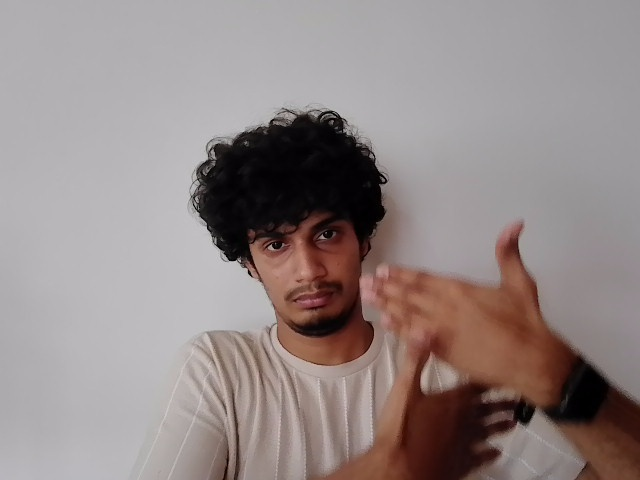work: (351, 217, 548, 480)
